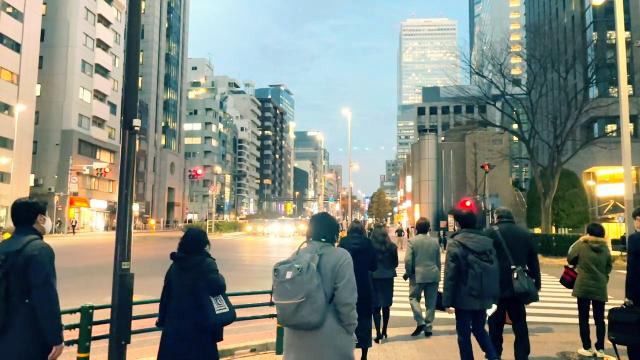berdiri: (478, 204, 540, 360), (562, 220, 614, 354), (405, 216, 441, 342), (369, 222, 397, 344)
berjalan: (271, 211, 360, 360), (153, 215, 237, 360), (1, 198, 66, 358), (448, 202, 496, 360)
